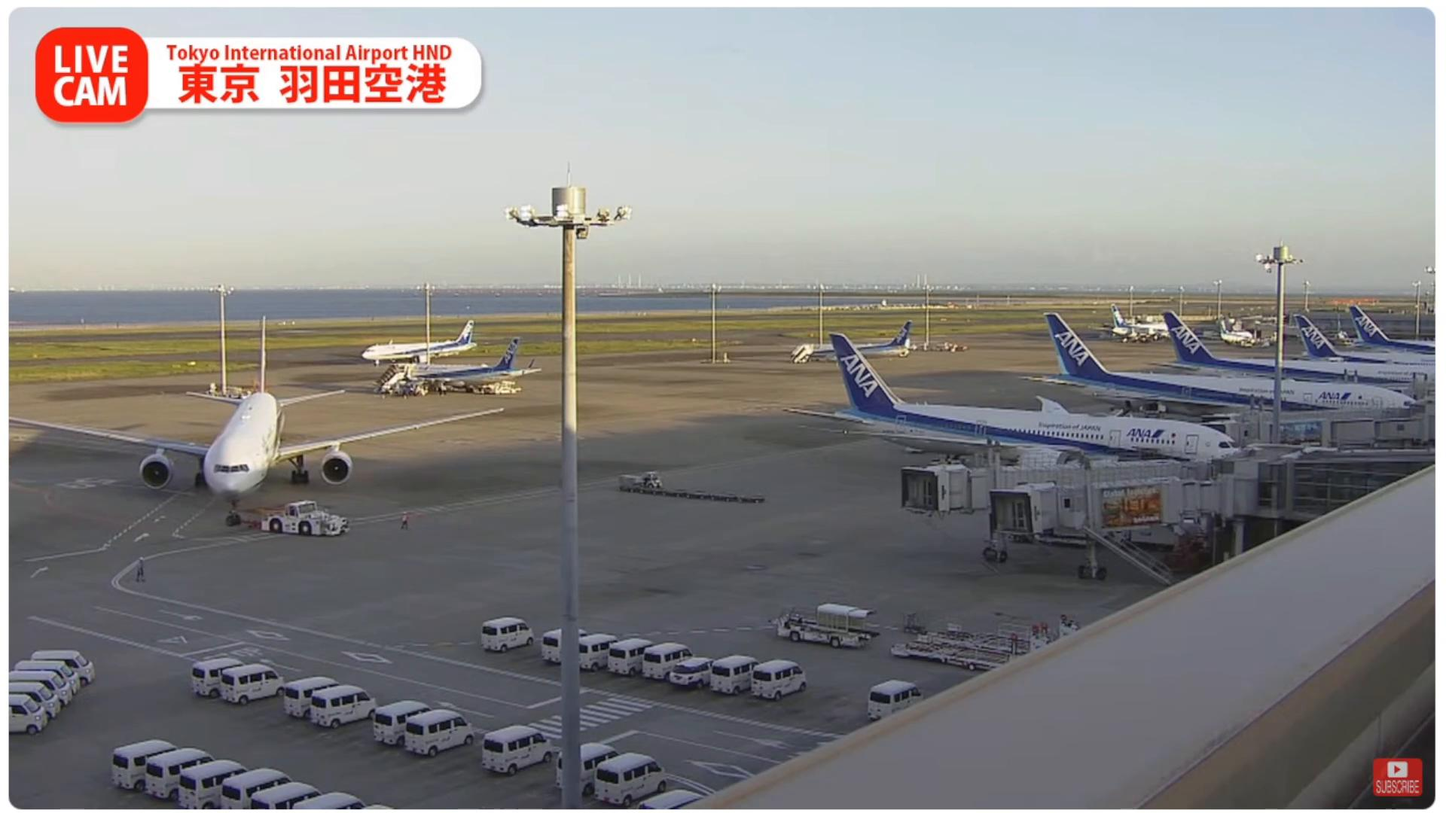APS: (261, 497, 351, 539)
Aerobridge: (992, 474, 1253, 544), (897, 462, 1214, 513)
Airplane: (5, 311, 510, 505)
Dolly: (616, 474, 765, 505)
JCPL: (918, 617, 1080, 654), (891, 641, 1014, 668)
Skyloader: (769, 599, 883, 648)
Tractor: (640, 471, 666, 487)
Window: (1253, 443, 1435, 520)
